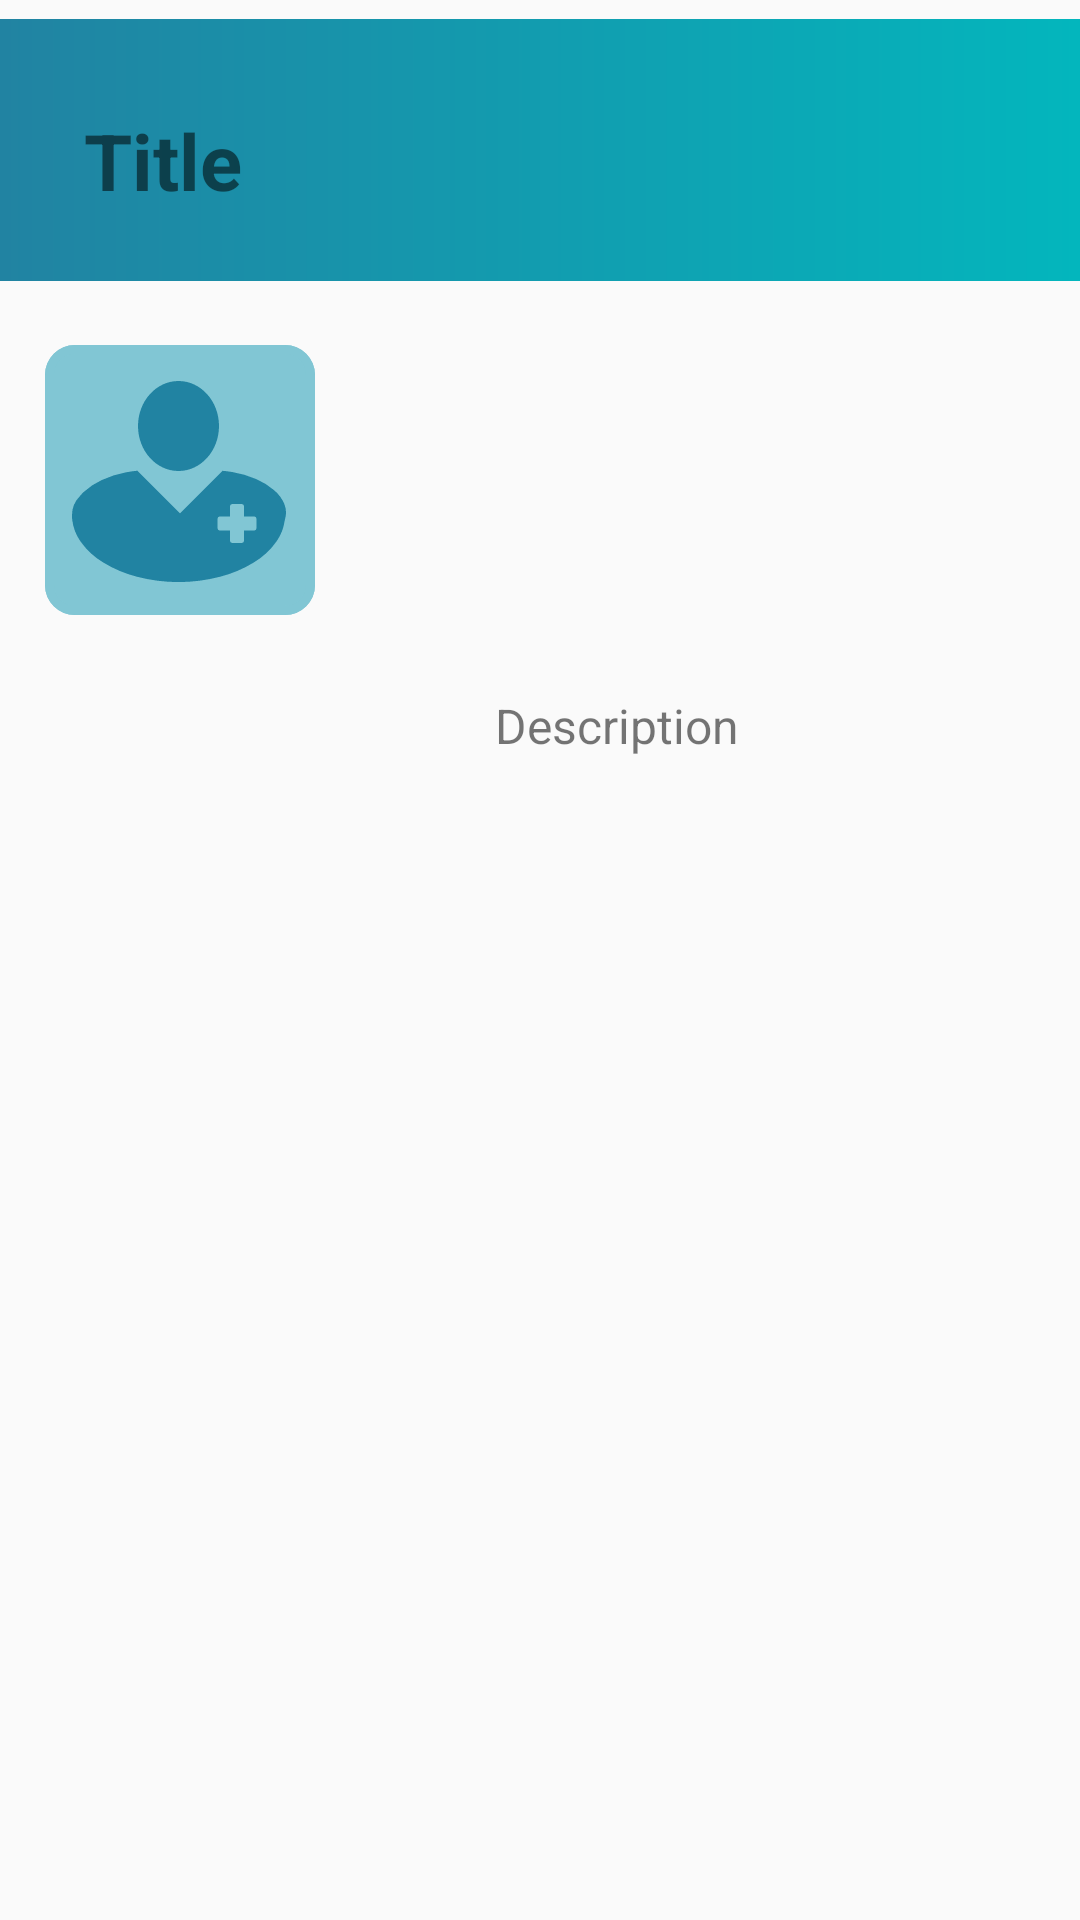

Locate icon controls on the screen. Image size 1080x1920, boxes as (x1, y1, x2, y2).
profile: (45, 345, 315, 615)
